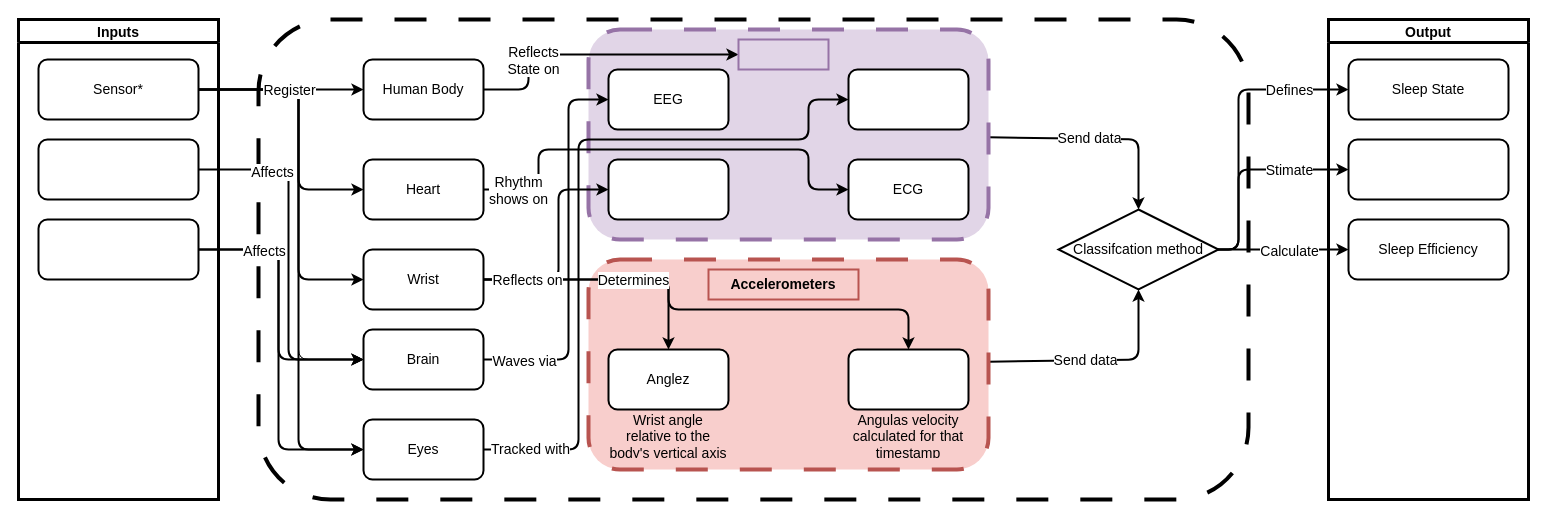
Image size: 1547x518. Some labels were removed from this diagram. The centre of each missing label's shape, as x and y in pixels:
EMG: pixel 668 189
Enmo: pixel 908 379
Fatigue level: pixel 118 169
Light level: pixel 118 249
OEG: pixel 908 99
PSG: pixel 783 54
Sleep Period: pixel 1428 169
